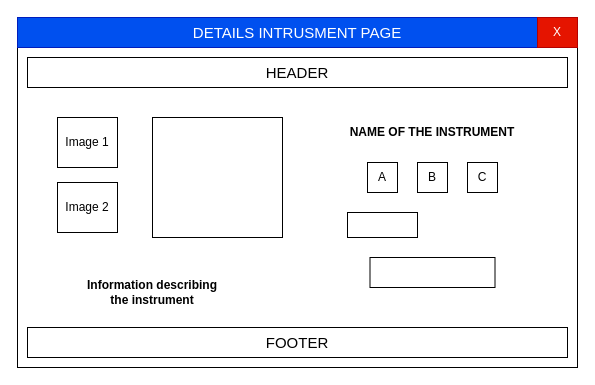
Some shapes in this 595 by 385 pixel diagram are drawn without their labels. The centre of each missing label's shape, as x and y in pixels:
BUY: (432,272)
IMAGE MAIN: (217,177)
Quantity: (382,225)
